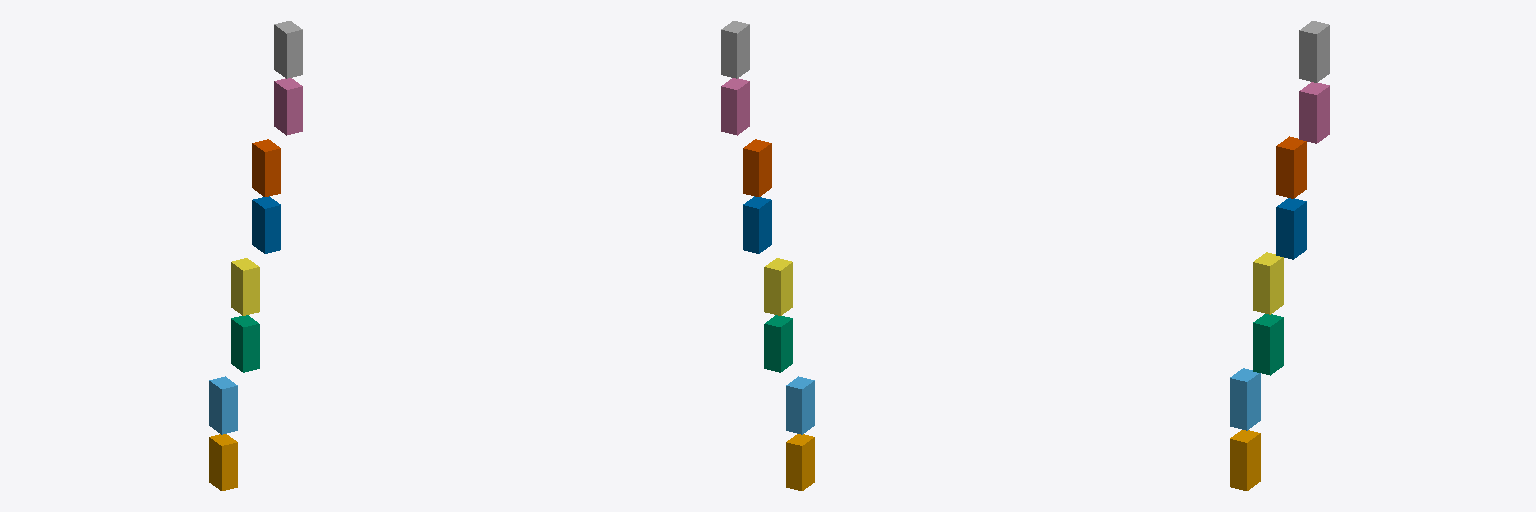
robot.urdf — AcceptanceRobot:
<?xml version="1.0"?>
<robot name="AcceptanceRobot">
<link name="link0">
<inertial><origin xyz="0 0 0.04"/><mass value="1"/><inertia ixx="0.002" iyy="0.002" izz="0.001" ixy="0" ixz="0" iyz="0"/></inertial>
<visual><origin xyz="0 0 0.04"/><geometry><box size="0.03 0.04 0.08"/></geometry></visual>
<collision><origin xyz="0 0 0.04"/><geometry><box size="0.03 0.04 0.08"/></geometry></collision>
</link>
<link name="link1">
<inertial><origin xyz="0 0 0.04"/><mass value="1"/><inertia ixx="0.002" iyy="0.002" izz="0.001" ixy="0" ixz="0" iyz="0"/></inertial>
<visual><origin xyz="0 0 0.04"/><geometry><box size="0.03 0.04 0.08"/></geometry></visual>
<collision><origin xyz="0 0 0.04"/><geometry><box size="0.03 0.04 0.08"/></geometry></collision>
</link>
<link name="link2">
<inertial><origin xyz="0 0 0.04"/><mass value="1"/><inertia ixx="0.002" iyy="0.002" izz="0.001" ixy="0" ixz="0" iyz="0"/></inertial>
<visual><origin xyz="0 0 0.04"/><geometry><box size="0.03 0.04 0.08"/></geometry></visual>
<collision><origin xyz="0 0 0.04"/><geometry><box size="0.03 0.04 0.08"/></geometry></collision>
</link>
<link name="link3">
<inertial><origin xyz="0 0 0.04"/><mass value="1"/><inertia ixx="0.002" iyy="0.002" izz="0.001" ixy="0" ixz="0" iyz="0"/></inertial>
<visual><origin xyz="0 0 0.04"/><geometry><box size="0.03 0.04 0.08"/></geometry></visual>
<collision><origin xyz="0 0 0.04"/><geometry><box size="0.03 0.04 0.08"/></geometry></collision>
</link>
<link name="link4">
<inertial><origin xyz="0 0 0.04"/><mass value="1"/><inertia ixx="0.002" iyy="0.002" izz="0.001" ixy="0" ixz="0" iyz="0"/></inertial>
<visual><origin xyz="0 0 0.04"/><geometry><box size="0.03 0.04 0.08"/></geometry></visual>
<collision><origin xyz="0 0 0.04"/><geometry><box size="0.03 0.04 0.08"/></geometry></collision>
</link>
<link name="link5">
<inertial><origin xyz="0 0 0.04"/><mass value="1"/><inertia ixx="0.002" iyy="0.002" izz="0.001" ixy="0" ixz="0" iyz="0"/></inertial>
<visual><origin xyz="0 0 0.04"/><geometry><box size="0.03 0.04 0.08"/></geometry></visual>
<collision><origin xyz="0 0 0.04"/><geometry><box size="0.03 0.04 0.08"/></geometry></collision>
</link>
<link name="link6">
<inertial><origin xyz="0 0 0.04"/><mass value="1"/><inertia ixx="0.002" iyy="0.002" izz="0.001" ixy="0" ixz="0" iyz="0"/></inertial>
<visual><origin xyz="0 0 0.04"/><geometry><box size="0.03 0.04 0.08"/></geometry></visual>
<collision><origin xyz="0 0 0.04"/><geometry><box size="0.03 0.04 0.08"/></geometry></collision>
</link>
<link name="link7">
<inertial><origin xyz="0 0 0.04"/><mass value="1"/><inertia ixx="0.002" iyy="0.002" izz="0.001" ixy="0" ixz="0" iyz="0"/></inertial>
<visual><origin xyz="0 0 0.04"/><geometry><box size="0.03 0.04 0.08"/></geometry></visual>
<collision><origin xyz="0 0 0.04"/><geometry><box size="0.03 0.04 0.08"/></geometry></collision>
</link>
<joint name="joint1" type="revolute"><parent link="link0"/><child link="link1"/>
<origin xyz="0 0 0.10" rpy="0 0 0"/><axis xyz="0 0 1"/><limit lower="-2" upper="2" effort="100" velocity="1"/></joint>
<joint name="joint2" type="revolute"><parent link="link1"/><child link="link2"/>
<origin xyz="0.04 0 0.10" rpy="0 0 0"/><axis xyz="0 1 0"/><limit lower="-2" upper="2" effort="100" velocity="1"/></joint>
<joint name="joint3" type="revolute"><parent link="link2"/><child link="link3"/>
<origin xyz="0 0 0.10" rpy="0 0 0"/><axis xyz="0 1 0"/><limit lower="-2" upper="2" effort="100" velocity="1"/></joint>
<joint name="joint4" type="revolute"><parent link="link3"/><child link="link4"/>
<origin xyz="0.04 0 0.10" rpy="0 0 0"/><axis xyz="1 0 0"/><limit lower="-2" upper="2" effort="100" velocity="1"/></joint>
<joint name="joint5" type="revolute"><parent link="link4"/><child link="link5"/>
<origin xyz="0 0 0.10" rpy="0 0 0"/><axis xyz="0 1 0"/><limit lower="-2" upper="2" effort="100" velocity="1"/></joint>
<joint name="joint6" type="revolute"><parent link="link5"/><child link="link6"/>
<origin xyz="0.04 0 0.10" rpy="0 0 0"/><axis xyz="1 0 0"/><limit lower="-2" upper="2" effort="100" velocity="1"/></joint>
<joint name="joint7" type="revolute"><parent link="link6"/><child link="link7"/>
<origin xyz="0 0 0.10" rpy="0 0 0"/><axis xyz="0 0 1"/><limit lower="-2" upper="2" effort="100" velocity="1"/></joint>
</robot>

--- What the picture shows (computed from the rendered views, not written in the file) ---
The picture shows the robot from 3 angles, left to right: view 1: azimuth 30°, elevation 25°; view 2: azimuth 150°, elevation 25°; view 3: azimuth 330°, elevation 25°; orthographic projection.
Robot: AcceptanceRobot — 8 links, 7 joints (7 revolute); root link link0; default pose: all joints at 0.
Visible links, largest first — view 1: link7, link3, link1, link5, link0, link4, link2, link6; view 2: link7, link3, link1, link5, link0, link4, link2, link6; view 3: link7, link2, link6, link4, link5, link0, link1, link3.
Link boxes in pixels (x1,y1,x2,y2): link7: (274, 21, 302, 78); link3: (231, 258, 259, 315); link1: (209, 376, 237, 434); link5: (252, 139, 280, 196); link0: (209, 434, 237, 490); link4: (252, 196, 280, 253); link2: (231, 315, 259, 372); link6: (274, 78, 302, 135); link7: (721, 21, 749, 78); link3: (764, 258, 792, 315); link1: (786, 376, 814, 434); link5: (743, 139, 771, 196); link0: (786, 434, 814, 490); link4: (743, 196, 771, 253); link2: (764, 315, 792, 372); link6: (721, 78, 749, 135); link7: (1299, 21, 1329, 82); link2: (1253, 314, 1283, 375); link6: (1299, 82, 1329, 143); link4: (1276, 198, 1306, 259); link5: (1276, 136, 1306, 198); link0: (1230, 430, 1260, 490); link1: (1230, 368, 1260, 430); link3: (1253, 252, 1283, 314).
Size in the robot's own frame: 0.15 by 0.04 by 0.78 metres.
Geometry: primitives only (box / cylinder / sphere), no mesh files.
